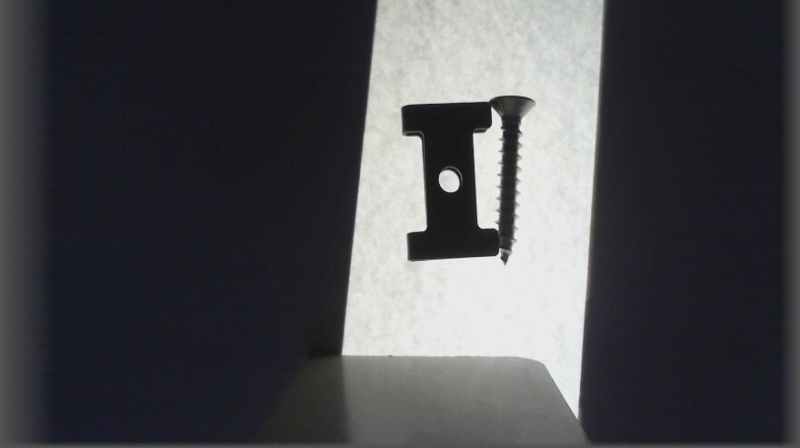O002: (400, 100, 497, 261)
S001: (487, 93, 537, 266)
